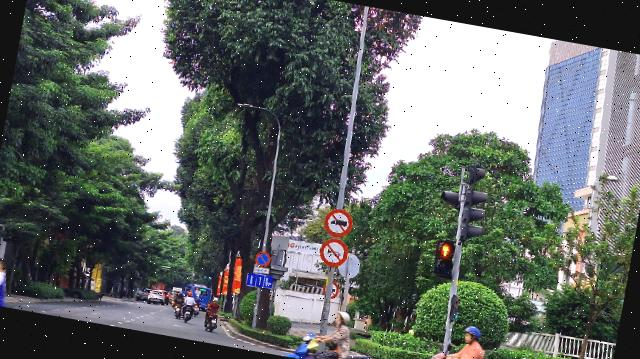cam-bop-coi: (316, 236, 349, 269)
cam-do-xe: (254, 249, 272, 268)
